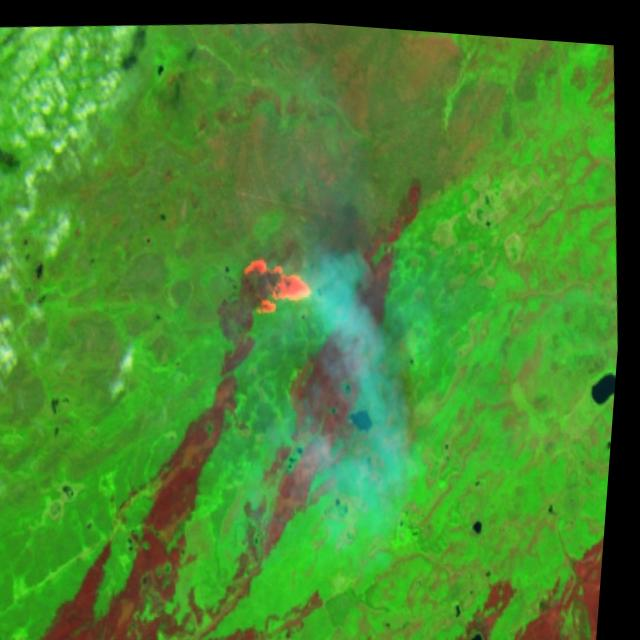fire: (240, 238, 327, 322)
